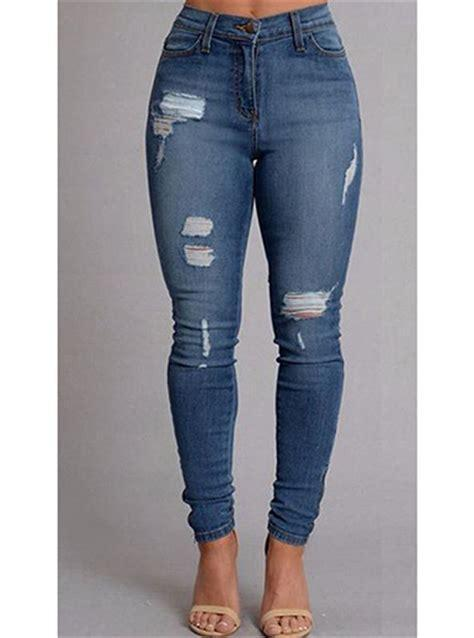pants: (144, 1, 362, 545)
